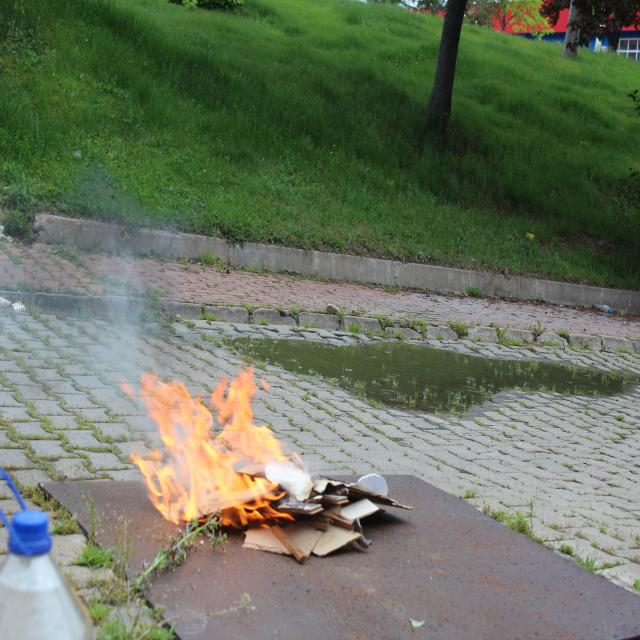fire: (114, 356, 298, 561)
